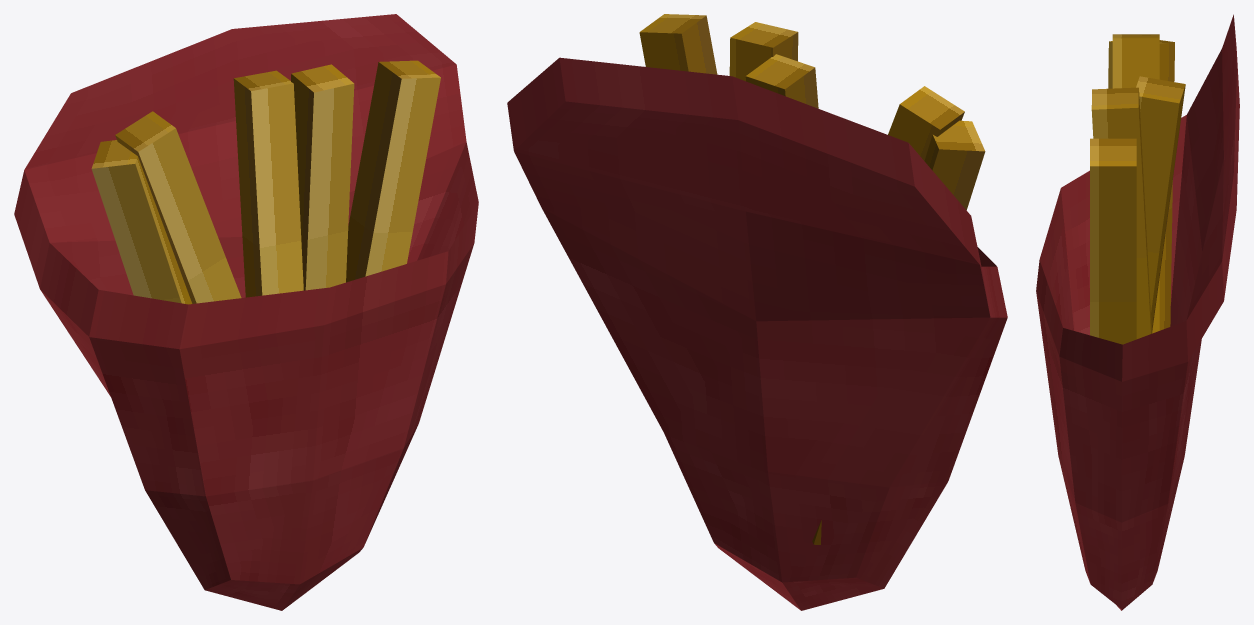
Rendered from Fries.obj.
The picture shows the model from 3 angles, left to right: view 1: azimuth 30°, elevation 25°; view 2: azimuth 150°, elevation 25°; view 3: azimuth 270°, elevation 25°; orthographic projection. The views are drawn at different scales.
Visible parts, largest first — view 1: Fries; view 2: Fries; view 3: Fries.
Part boxes in pixels (x1,y1,x2,y2): Fries: (14, 14, 478, 610); Fries: (507, 14, 1007, 610); Fries: (1036, 14, 1239, 610).
Bounding box in the file's own units: 0.9898 × 1.15 × 0.3916.
